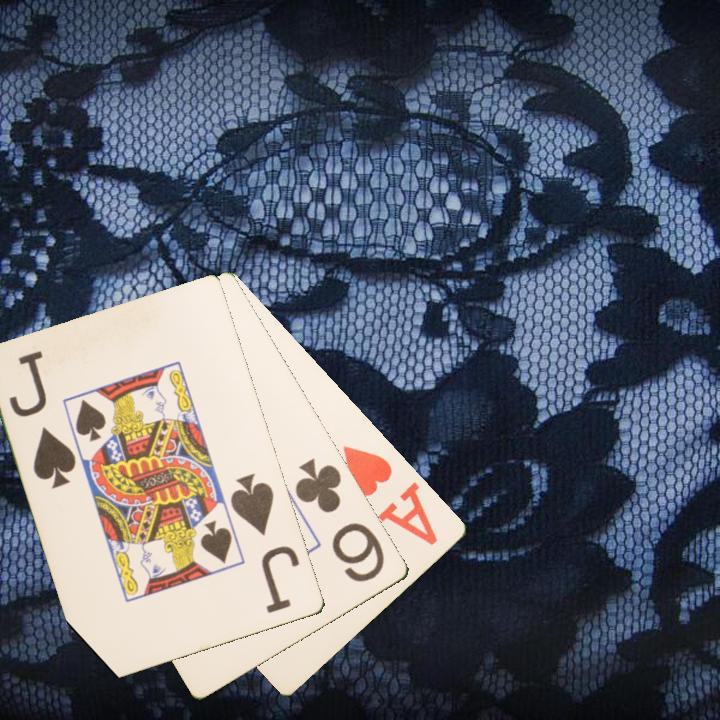6c: (291, 455, 389, 586)
Ah: (339, 441, 441, 549)
Js: (227, 470, 304, 617), (5, 347, 80, 492)
